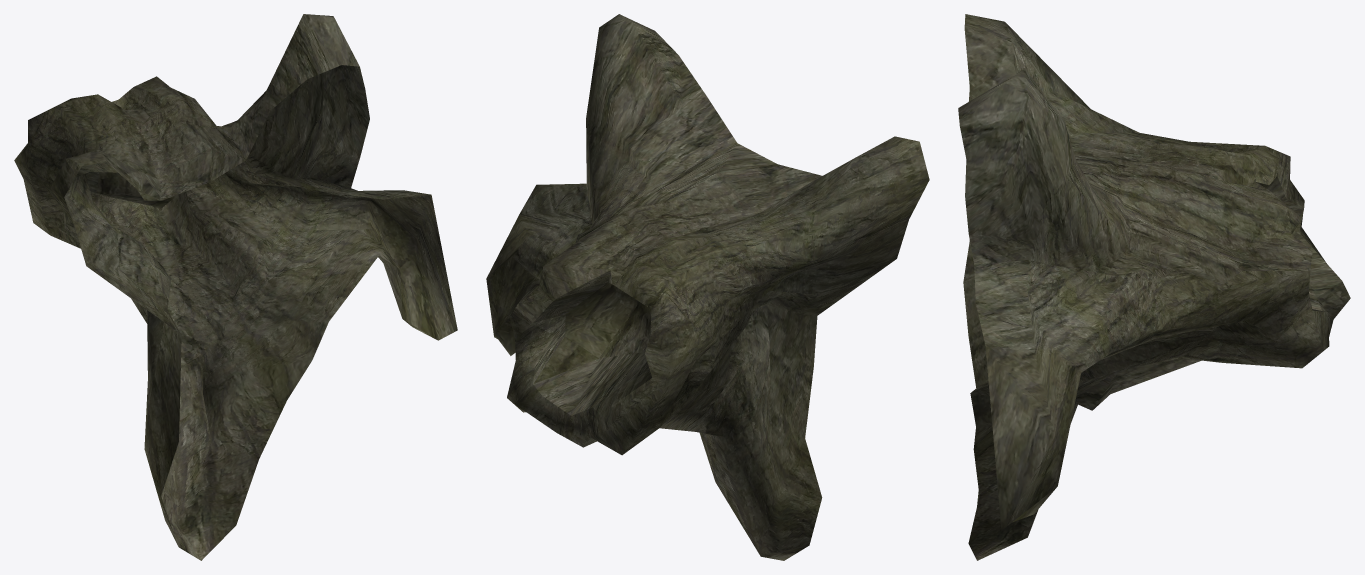
File: TI_Old_Tree_09_LOD_01.fbx
The picture shows the model from 3 angles, left to right: view 1: azimuth 30°, elevation 25°; view 2: azimuth 150°, elevation 25°; view 3: azimuth 270°, elevation 25°; orthographic projection. The views are drawn at different scales.
Parts seen in each view (by area): view 1: TI_Old_Tree_09_LOD_01; view 2: TI_Old_Tree_09_LOD_01; view 3: TI_Old_Tree_09_LOD_01.
Part boxes in pixels (x1,y1,x2,y2): TI_Old_Tree_09_LOD_01: (14, 14, 457, 560); TI_Old_Tree_09_LOD_01: (486, 14, 929, 560); TI_Old_Tree_09_LOD_01: (958, 14, 1350, 560).
Bounding box in the file's own units: 3.19 × 3.77 × 2.4.
